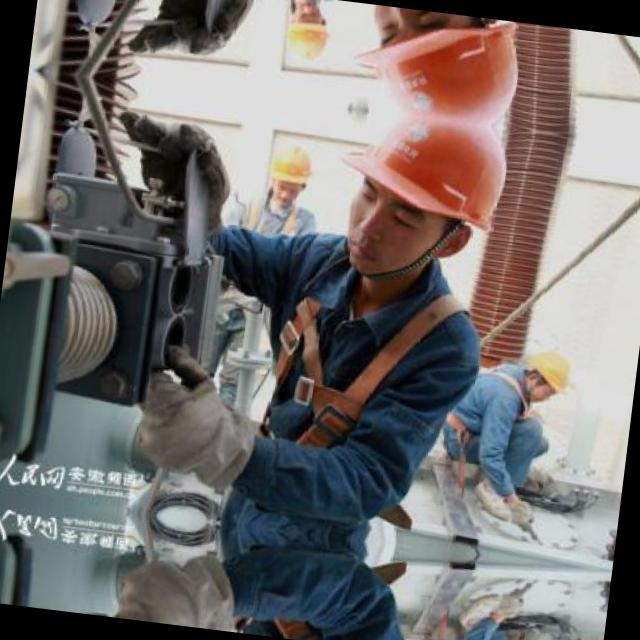helmet: (316, 112, 512, 300), (337, 1, 527, 124), (258, 131, 316, 215), (275, 0, 335, 73), (514, 339, 579, 406)
